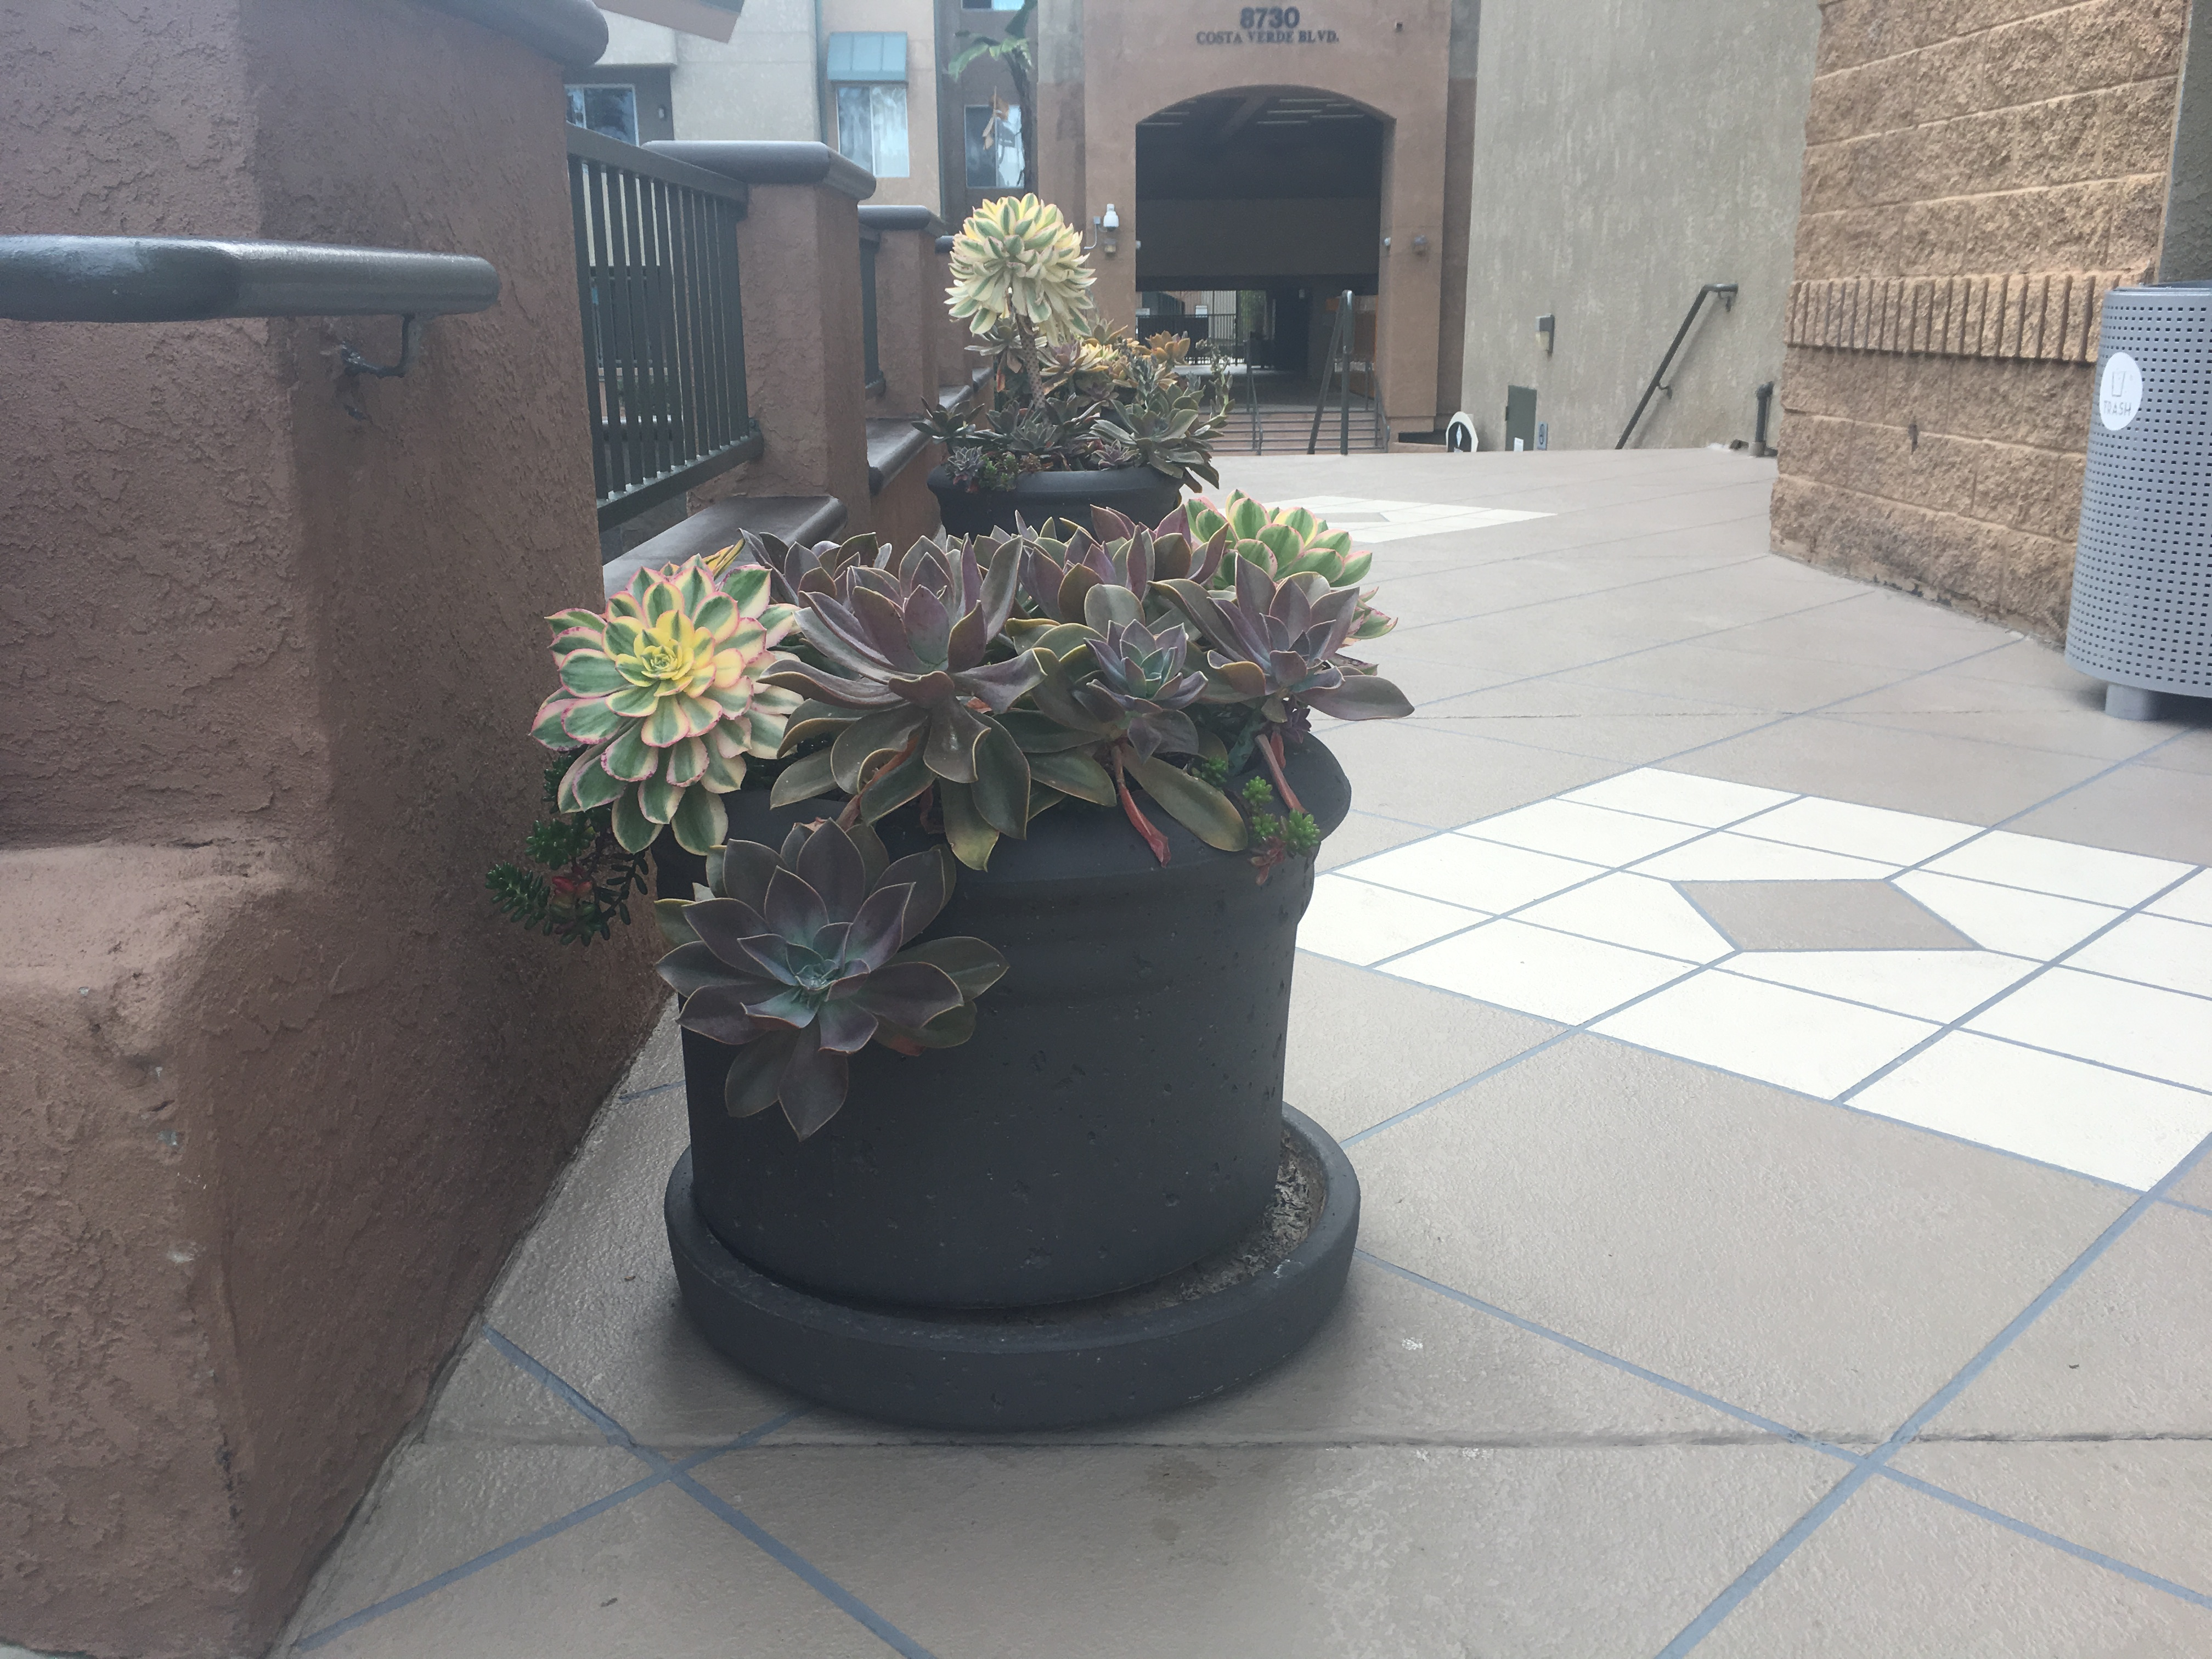Edge: (1211, 443, 1757, 465)
Obstacle: (9, 14, 678, 1647), (580, 509, 1402, 1422), (1782, 17, 2196, 650), (932, 216, 1211, 500), (2088, 275, 2212, 732)
